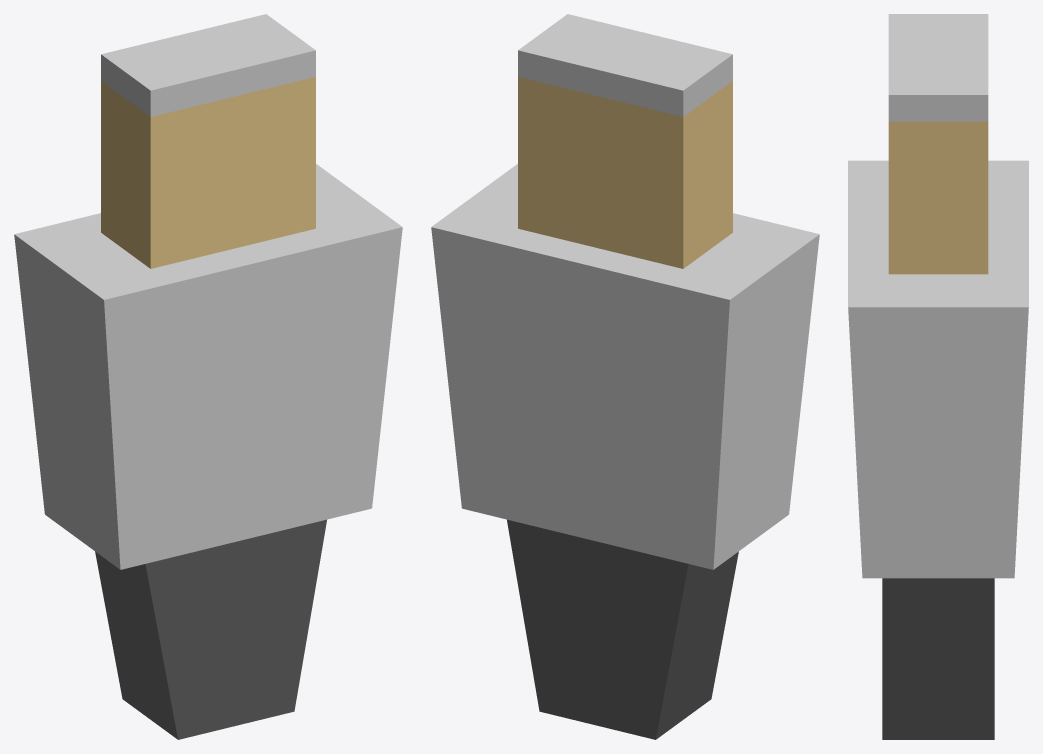
The model's file is Person.fbx.
3 renders of one model, left to right at view 1: azimuth 30°, elevation 25°; view 2: azimuth 150°, elevation 25°; view 3: azimuth 270°, elevation 25°, orthographic.
Parts seen in each view (by area): view 1: Person; view 2: Person; view 3: Person.
Boxes of the visible parts, x1,y1,x2,y2 form: Person: (14,14,402,739); Person: (431,14,819,739); Person: (848,14,1028,739).
Bounding box in the file's own units: 0.2625 × 0.5482 × 0.1367.
